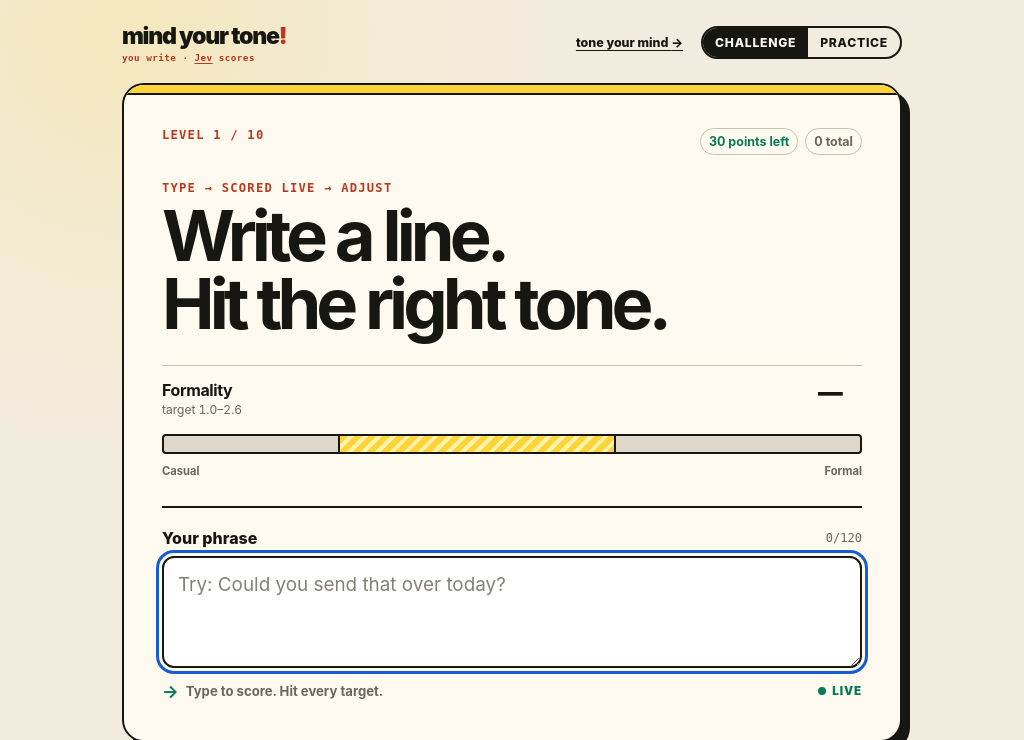
Scenario: live challenge play › keeps auto-advance running for typing during the one-second grace period
The image size is (1024, 740).
Type "Half a sentence" into the text box labelled "Your phrase" at (512, 612), box left=162, top=556, right=862, bottom=668
Wait 1150 ms
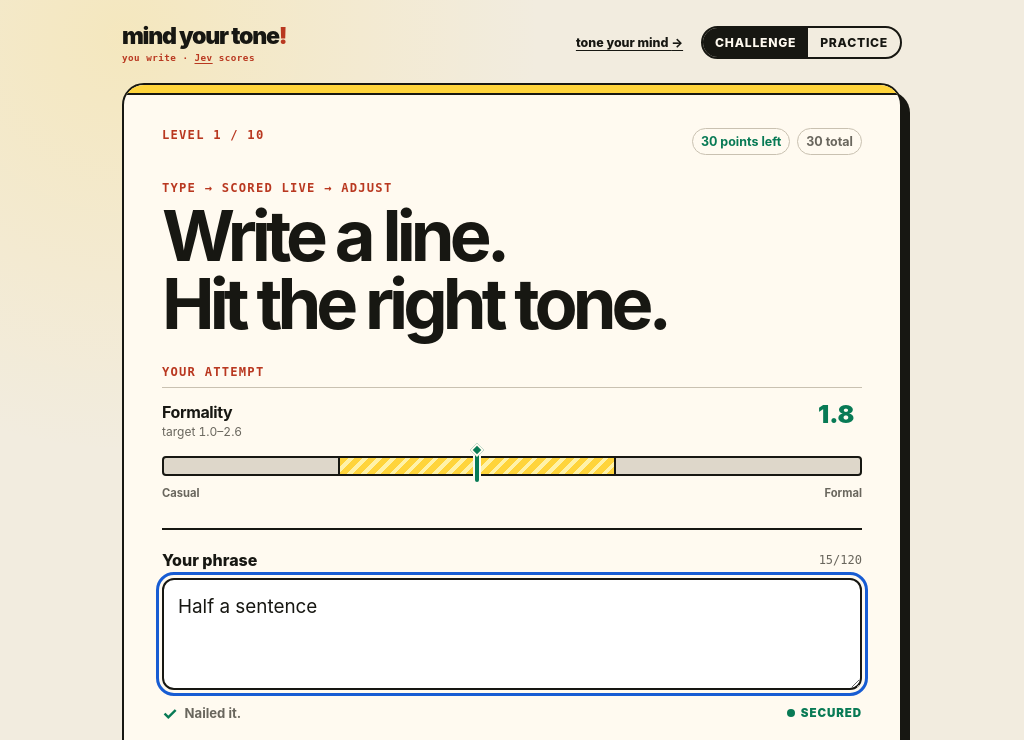
Replace the text in the text box labelled "Your phrase" with "Half a sentence that I was still finishing" at (512, 634), box left=162, top=578, right=862, bottom=690
Wait 4500 ms
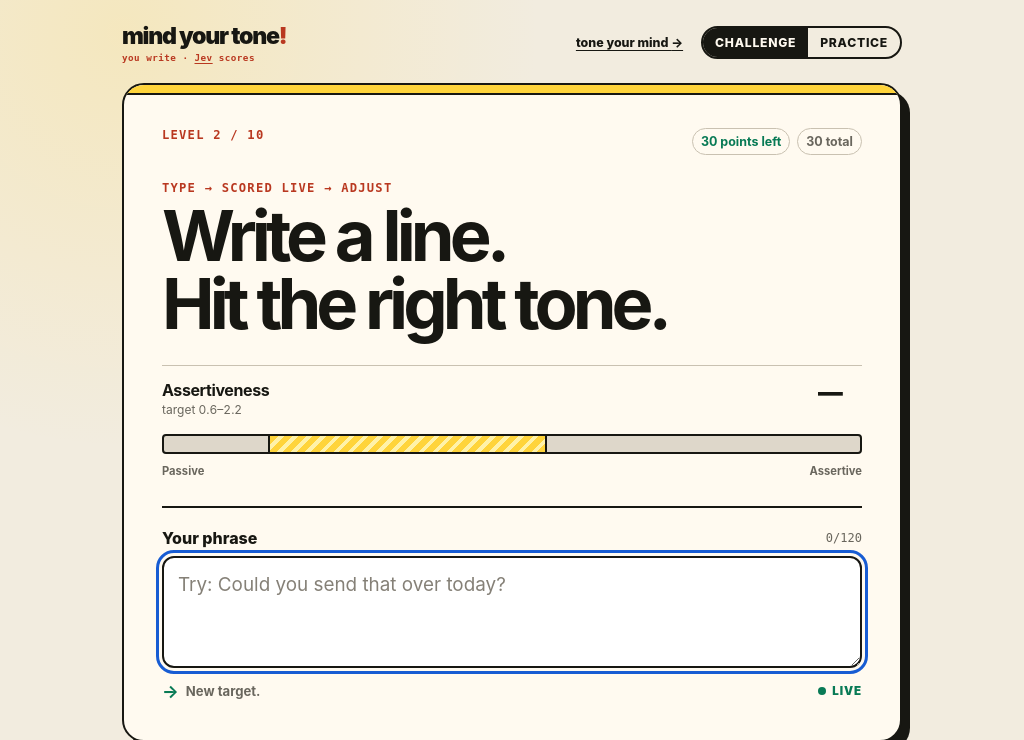
Now the text "30 total" is shown, box left=797, top=128, right=862, bottom=155
Now the text "level 2 / 10" is shown, box left=162, top=128, right=264, bottom=142
